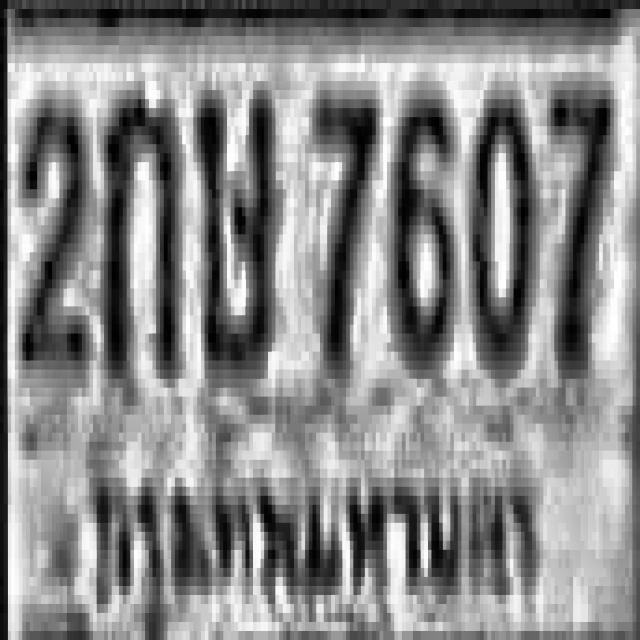license-plate: (11, 18, 640, 640)
